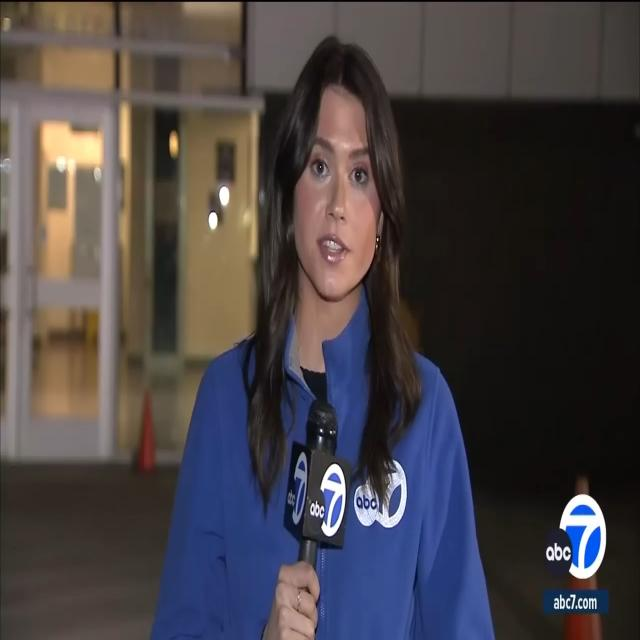microphone: (291, 395, 348, 625)
